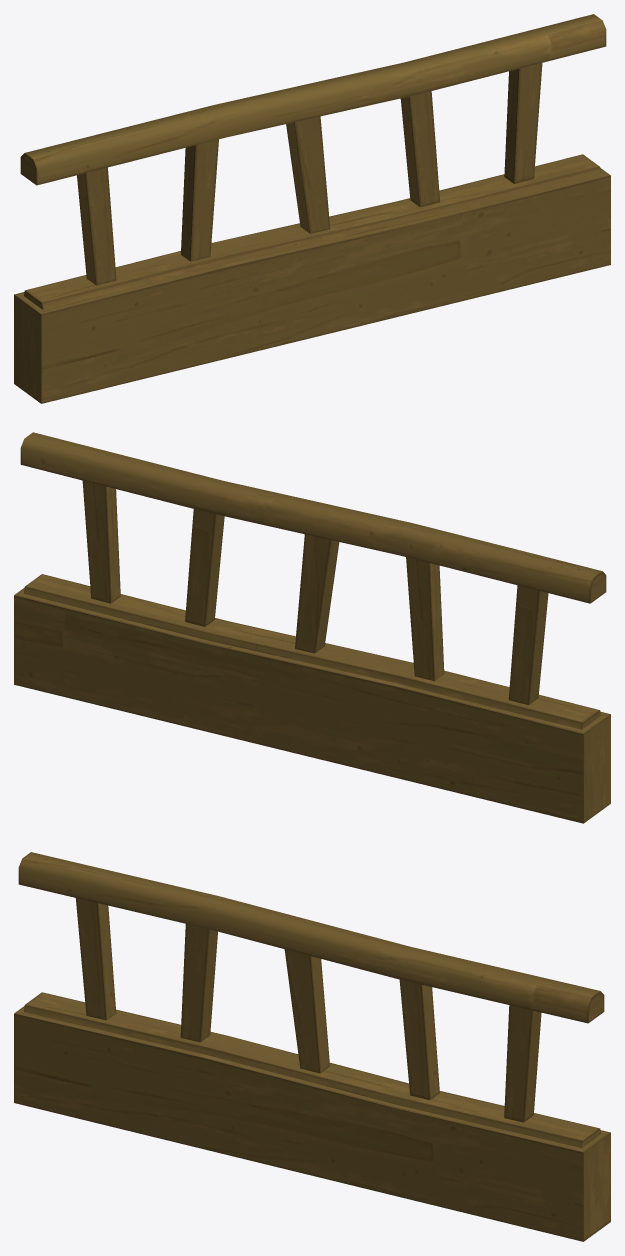
File: SM_building_stairs_06.glb
The picture shows the model from 3 angles, top to bottom: view 1: azimuth 30°, elevation 25°; view 2: azimuth 150°, elevation 25°; view 3: azimuth 330°, elevation 25°; orthographic projection.
Visible parts, largest first — view 1: SM_building_stairs_06; view 2: SM_building_stairs_06; view 3: SM_building_stairs_06.
Part boxes in pixels (x1,y1,x2,y2): SM_building_stairs_06: (14, 14, 610, 403); SM_building_stairs_06: (14, 432, 610, 823); SM_building_stairs_06: (14, 852, 610, 1241).
Bounding box in the file's own units: 3 × 1.21 × 0.2497.
Materials: 1 (1 with a texture image).
